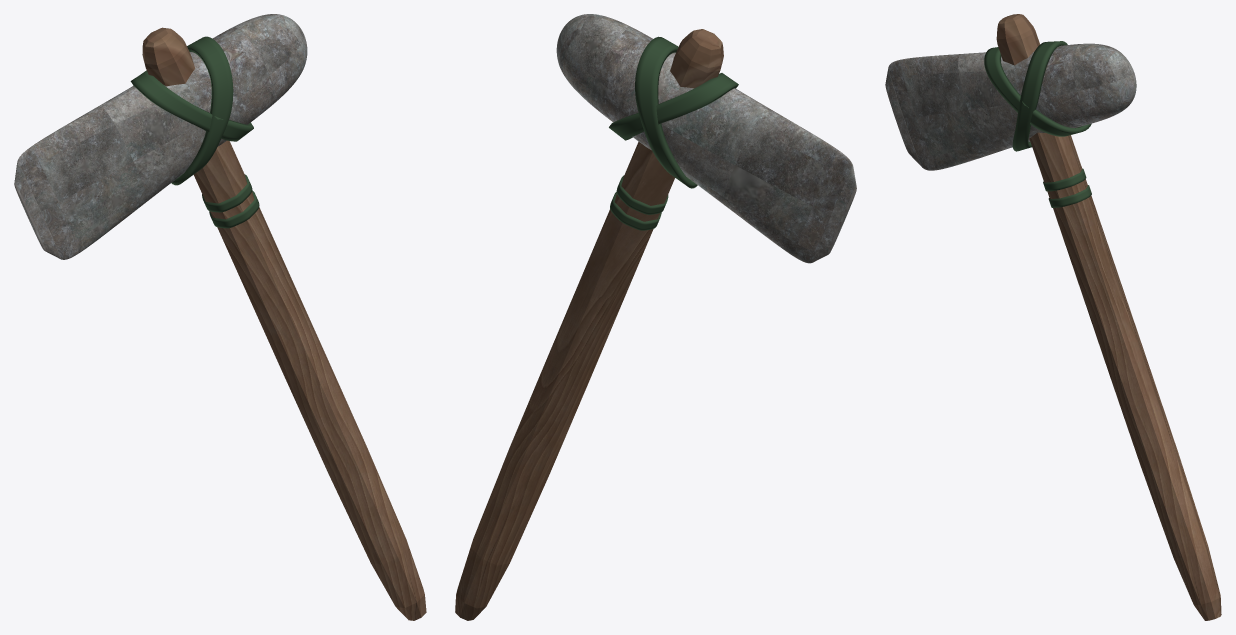
Rendered from PrehistoricAxe.fbx.
3 renders of one model, left to right at view 1: azimuth 30°, elevation 25°; view 2: azimuth 150°, elevation 25°; view 3: azimuth 330°, elevation 25°, orthographic. The views are drawn at different scales.
Visible parts, largest first — view 1: Cylinder.005; view 2: Cylinder.005; view 3: Cylinder.005.
Part boxes in pixels (x1,y1,x2,y2): Cylinder.005: (14, 14, 426, 620); Cylinder.005: (455, 14, 856, 620); Cylinder.005: (885, 14, 1221, 620).
Bounding box in the file's own units: 283 × 431 × 51.2.
Materials: 3 (2 with a texture image).
